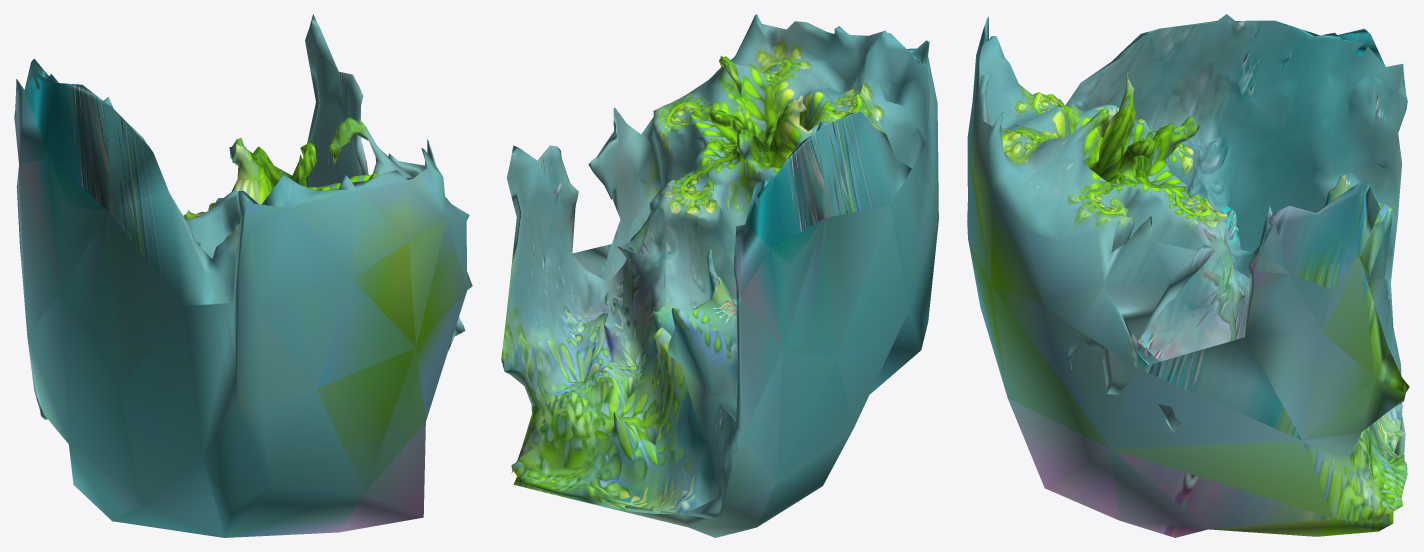
File: levelup117P190522.glb
3 renders of one model, left to right at view 1: azimuth 30°, elevation 25°; view 2: azimuth 150°, elevation 25°; view 3: azimuth 270°, elevation 25°, orthographic. The views are drawn at different scales.
Parts seen in each view (by area): view 1: levelup_1317P190522; view 2: levelup_1317P190522; view 3: levelup_1317P190522.
Part boxes in pixels (x1,y1,x2,y2): levelup_1317P190522: (14, 14, 472, 537); levelup_1317P190522: (501, 14, 938, 537); levelup_1317P190522: (967, 14, 1409, 537).
Bounding box in the file's own units: 9.54 × 13.83 × 13.64.
1 material, 1 textured.
